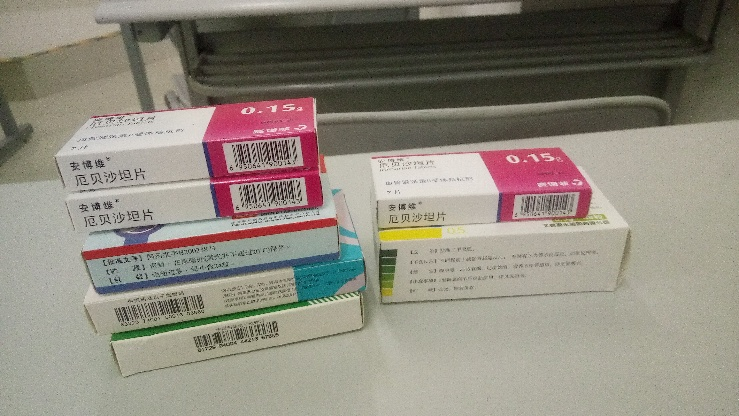pillbox: (56, 96, 318, 189), (111, 296, 371, 377), (85, 261, 368, 332), (82, 219, 340, 293), (379, 227, 626, 303), (374, 150, 590, 222), (67, 172, 320, 231)
